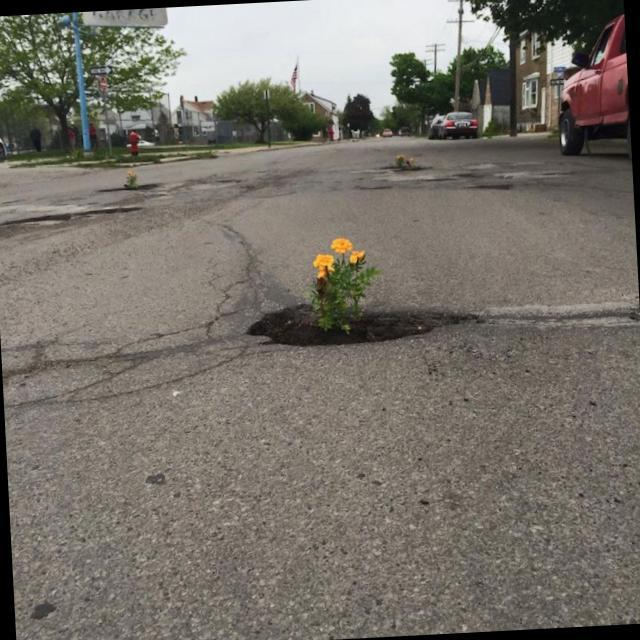Pothole: (216, 222, 479, 388), (0, 201, 143, 228)
